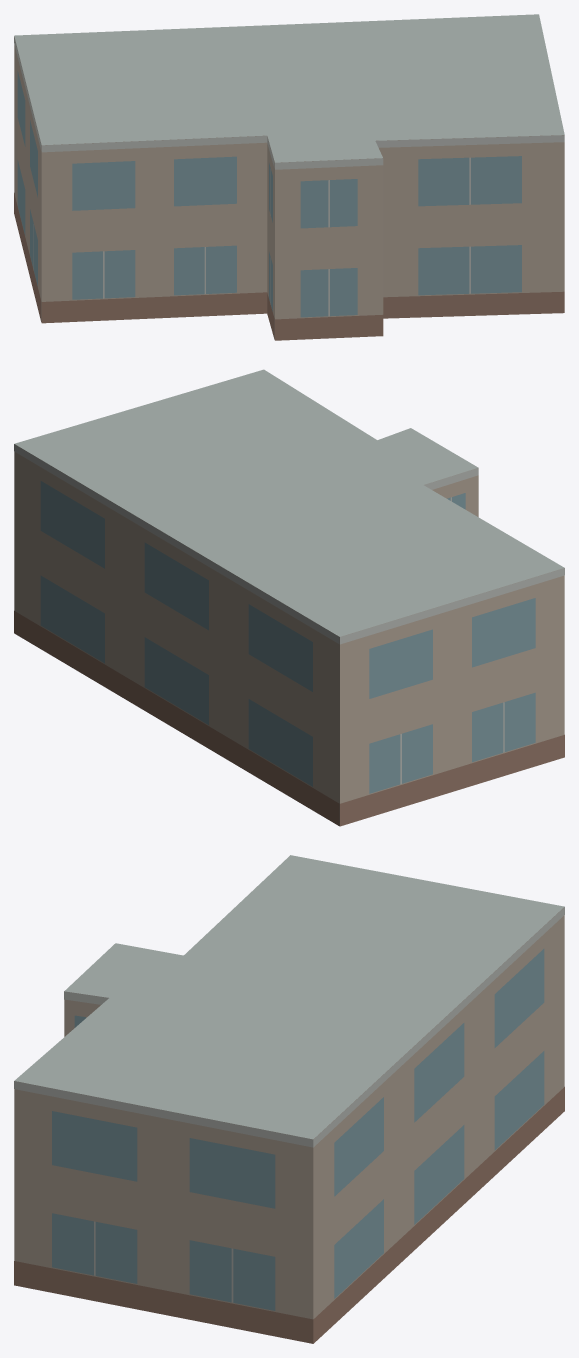
The model's file is survey-upis-32873997.glb.
3 views of the same model, one above another, from view 1: azimuth 30°, elevation 25°; view 2: azimuth 150°, elevation 25°; view 3: azimuth 270°, elevation 25° (orthographic). The views are drawn at different scales.
Visible parts, largest first — view 1: survey-upis-32873997.tmp; view 2: survey-upis-32873997.tmp; view 3: survey-upis-32873997.tmp.
Boxes of the visible parts, x1,y1,x2,y2 form: survey-upis-32873997.tmp: (14, 14, 564, 340); survey-upis-32873997.tmp: (14, 369, 564, 826); survey-upis-32873997.tmp: (14, 855, 564, 1343).
Size of the model in its own units: 18.21 by 6.1 by 14.9.
